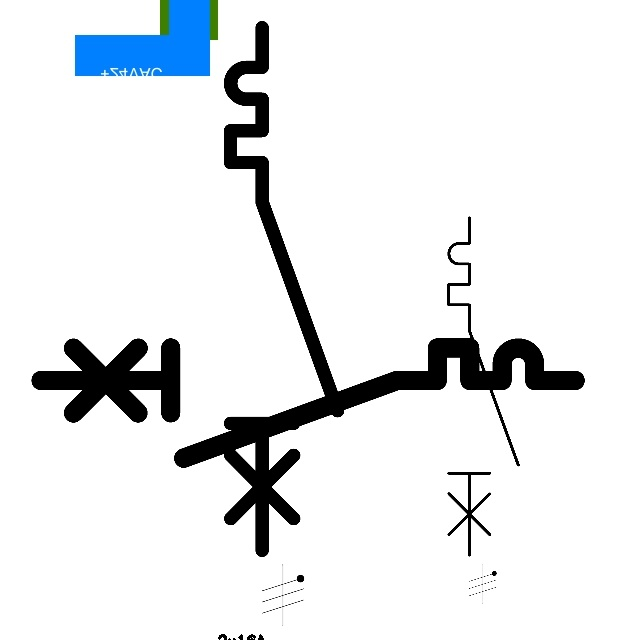interruptor_termomagnetico: (27, 334, 589, 471), (217, 14, 351, 563), (440, 209, 527, 564)
